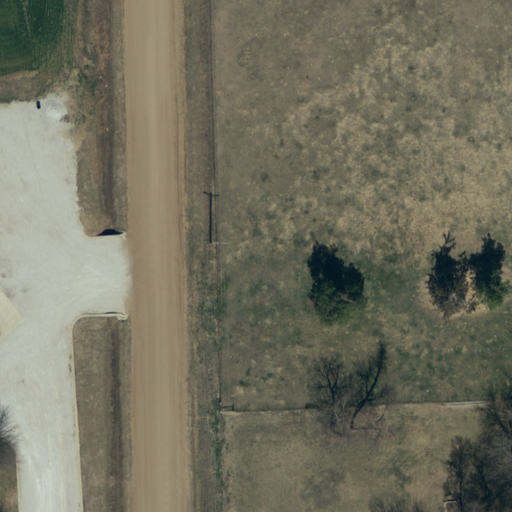DT: (204, 232, 230, 252)
